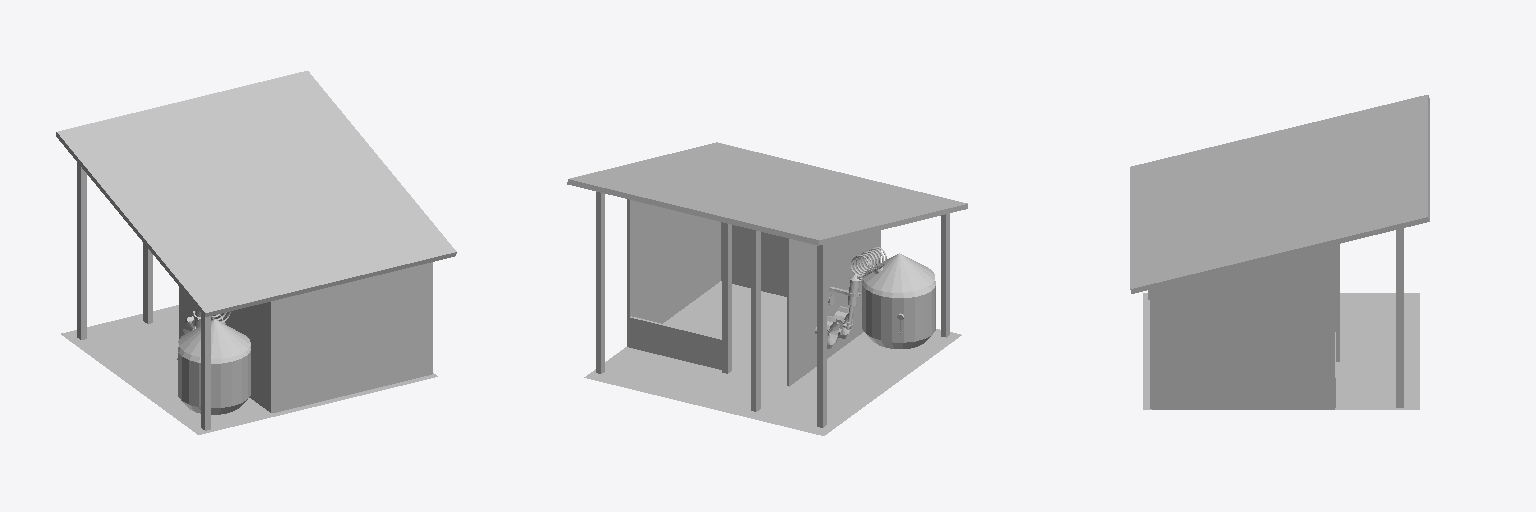
Rendered from Blacksmithing with UV.obj.
3 renders of one model, left to right at view 1: azimuth 30°, elevation 25°; view 2: azimuth 150°, elevation 25°; view 3: azimuth 270°, elevation 25°, orthographic.
Visible parts, largest first — view 1: pCube13, pCube18, pPlane1, pPipe4, pCube16, pCube8, pasted__pCube8 group3, pCube6; view 2: pCube13, pPlane1, pCube3, pCube16, pPipe4, pCube5, pCube18, pCube8, pCube6, pCube7, pCube9, pasted__pCube8 group3 (+1 smaller); view 3: pCube13, pCube3, pPlane1, pCube7, pCube9.
Boxes of the visible parts, x1=… form: pCube13: x1=56, y1=71, x2=456, y2=316; pCube18: x1=273, y1=262, x2=431, y2=412; pPlane1: x1=61, y1=305, x2=437, y2=434; pPipe4: x1=177, y1=319, x2=250, y2=414; pCube16: x1=179, y1=287, x2=272, y2=412; pCube8: x1=77, y1=163, x2=86, y2=339; pasted__pCube8 group3: x1=201, y1=314, x2=210, y2=430; pCube6: x1=143, y1=243, x2=152, y2=323; pCube13: x1=567, y1=142, x2=967, y2=245; pPlane1: x1=584, y1=281, x2=961, y2=435; pCube3: x1=627, y1=199, x2=720, y2=346; pCube16: x1=787, y1=230, x2=880, y2=386; pPipe4: x1=862, y1=253, x2=935, y2=348; pCube5: x1=629, y1=316, x2=721, y2=369; pCube18: x1=721, y1=222, x2=786, y2=296; pCube8: x1=817, y1=244, x2=826, y2=427; pCube6: x1=751, y1=229, x2=760, y2=411; pCube7: x1=596, y1=192, x2=604, y2=373; pCube9: x1=722, y1=222, x2=731, y2=373; pasted__pCube8 group3: x1=941, y1=213, x2=949, y2=337; pCube13: x1=1130, y1=95, x2=1429, y2=293; pCube3: x1=1152, y1=245, x2=1334, y2=409; pPlane1: x1=1143, y1=293, x2=1419, y2=409; pCube7: x1=1396, y1=228, x2=1403, y2=407; pCube9: x1=1335, y1=244, x2=1339, y2=361.
Bounding box in the file's own units: 26.25 × 20.01 × 27.02.